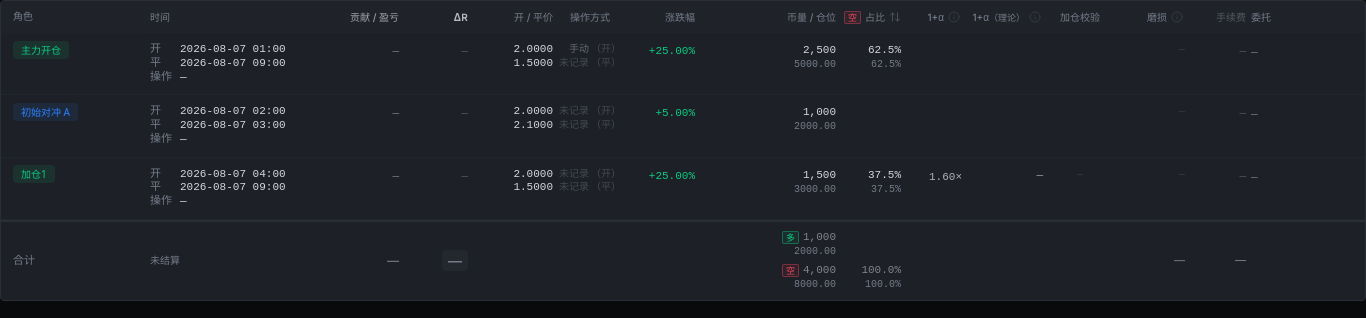
Scenario: Legs 列表的「多单占比」列 › 【用户要求 · 四续】主空战役：这一列按战役主方向改看空单 › 点列头排序按空单占比走：降序 → 升序 → 默认顺序；多单对冲不论升降序都沉底
Click the button with test id "legs-share-sort-short" at {"x": 871, "y": 17}, box [841,10,901,24]
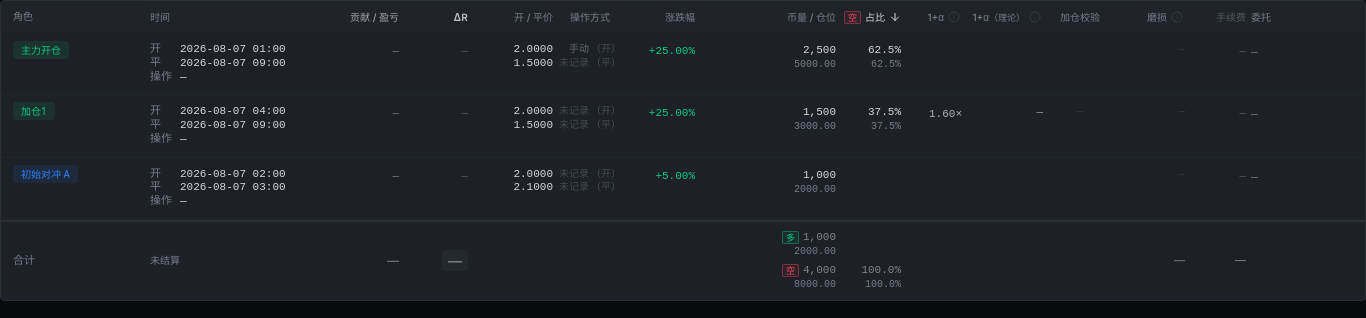
Expected: the button with test id "legs-share-sort-short" has attribute aria-label="按空单占比排序：当前降序，点击改为升序"
Click the button with test id "legs-share-sort-short" at {"x": 871, "y": 17}, box [841,10,901,24]
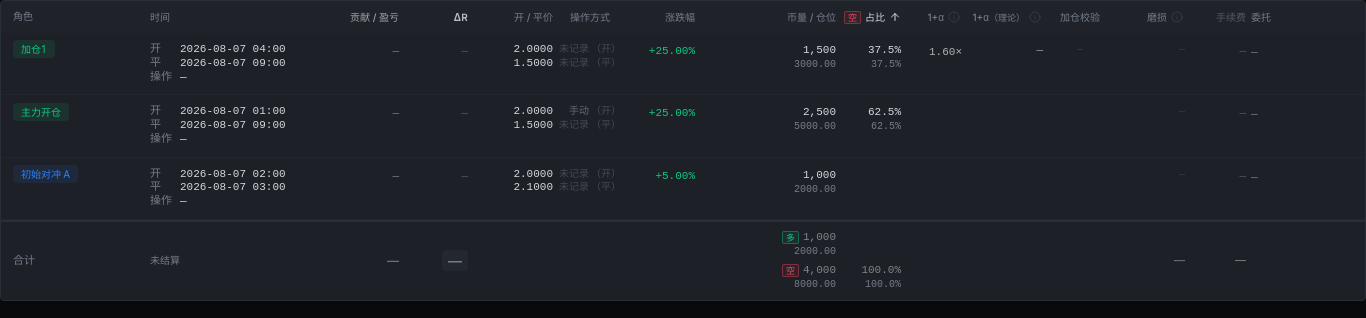
Expected: the button with test id "legs-share-sort-short" has attribute aria-label="按空单占比排序：当前升序，点击恢复默认顺序"
Click the button with test id "legs-share-sort-short" at {"x": 871, "y": 17}, box [841,10,901,24]
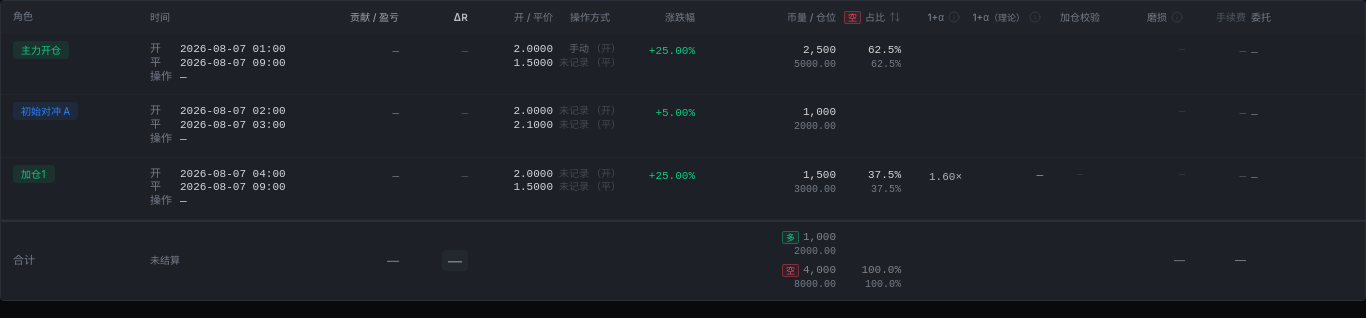
Expected: the button with test id "legs-share-sort-short" has attribute aria-label="按空单占比排序：当前默认顺序，点击改为降序", [841,10,901,24]
